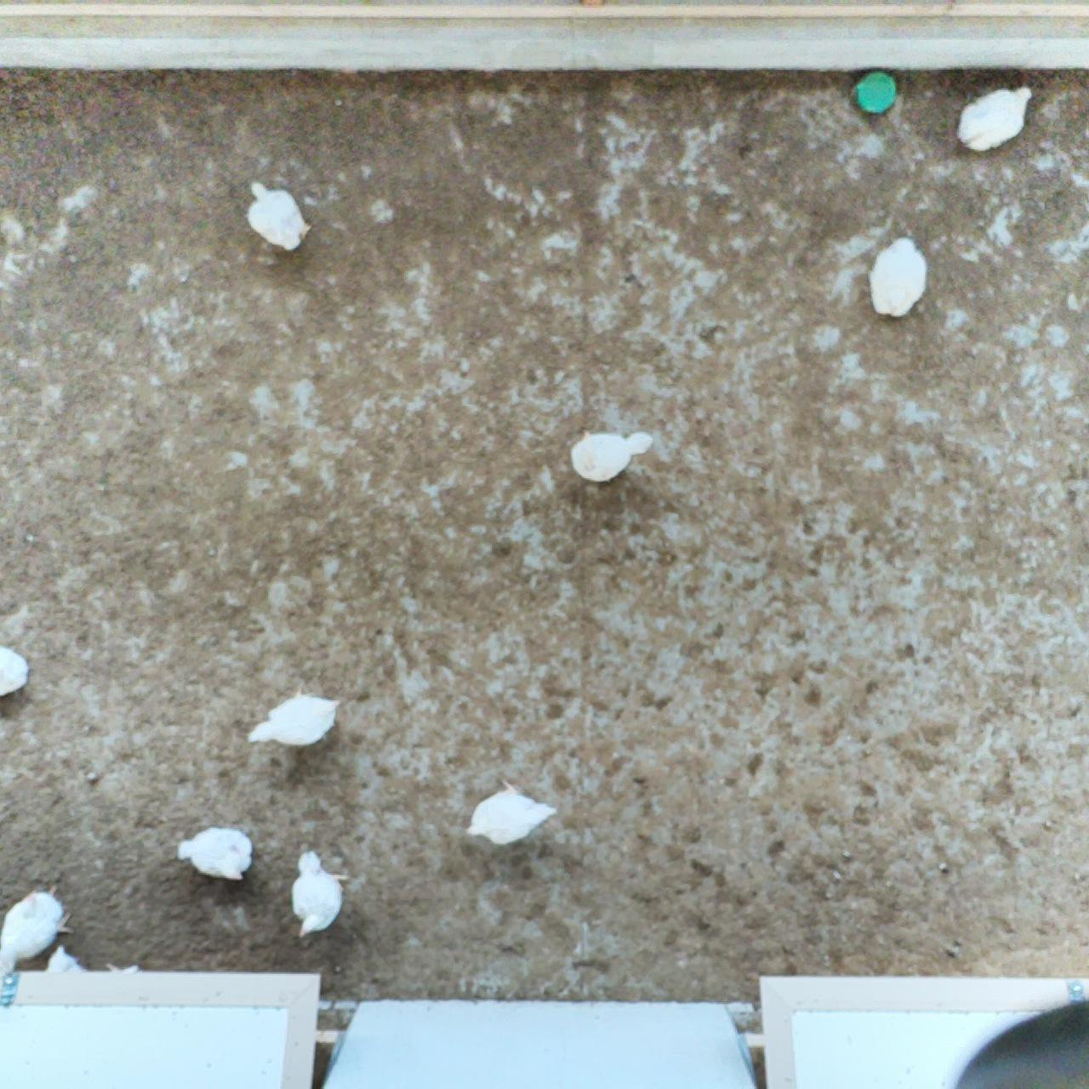chicken: (461, 776, 562, 850), (0, 878, 77, 971), (286, 844, 352, 945), (247, 683, 346, 750), (953, 82, 1037, 156), (565, 422, 659, 485), (866, 234, 929, 325), (244, 177, 313, 253), (176, 825, 259, 887), (0, 642, 32, 703)
